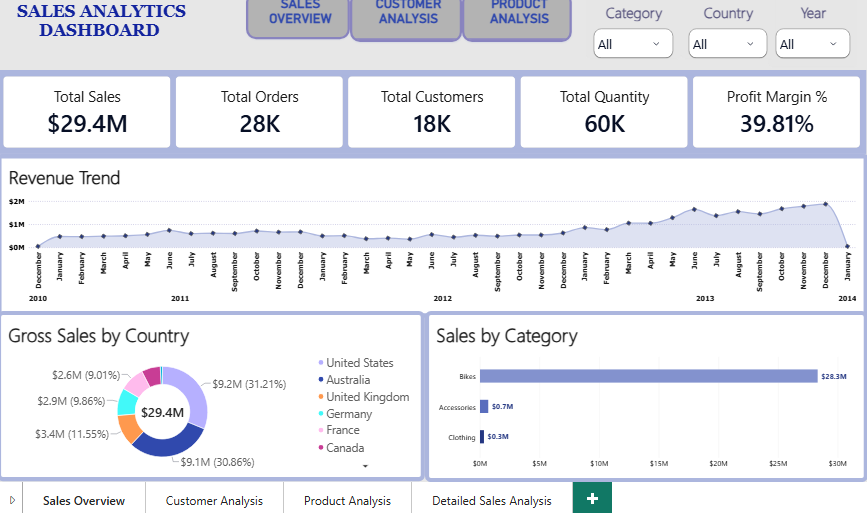

The page's visual inventory and layout, read from the dashboard file:
{"tool":"powerbi","page":{"name":"Sales Overview","canvas":[1920,1080],"ordinal":0},"visuals":[{"type":"cardVisual","fields":{"Data":["MeasuesTable.Total Sales","MeasuesTable.Total Orders","MeasuesTable.Total Customers","MeasuesTable.Total Quantity","MeasuesTable.Profit Margin %"]},"box":[0,171.9,1919.8,185.1],"z":0},{"type":"textbox","box":[0,448,461,317],"z":1000},{"type":"lineChart","title":"Revenue Trend","fields":{"Category":["DimDate.Year","DimDate.Month Name"],"Y":["MeasuesTable.Total Sales"]},"box":[0,357.1,1919.8,361.5],"z":2000},{"type":"donutChart","title":"Gross Sales by Country","fields":{"Category":["DimCustomers.Country"],"Y":["MeasuesTable.Total Sales"]},"box":[0,703.1,943.3,374.7],"z":3000},{"type":"barChart","title":"Sales by Category","fields":{"Category":["DimProducts.Category"],"Y":["MeasuesTable.Total Sales"]},"box":[943.3,703.1,976.4,376.9],"z":4000},{"type":"listSlicer","fields":{"Values":["DimDate.Year"]},"box":[1699.3,6.6,198.4,158.7],"z":5000},{"type":"listSlicer","fields":{"Values":["DimCustomers.Country"]},"box":[1507.6,6.6,207.2,141.1],"z":6000},{"type":"listSlicer","fields":{"Values":["DimProducts.Category"]},"box":[1298.2,6.6,209.4,141.1],"z":7000},{"type":"textbox","box":[0,22,460.7,105.8],"z":8000},{"type":"actionButton","title":"SALES OVERVIEW","box":[548.8,0,229.2,103.6],"z":9000},{"type":"actionButton","title":"CUSTOMER ANALYSIS","box":[778,0,246.9,110.2],"z":10000},{"type":"actionButton","title":"PRODUCT ANALYSIS","box":[1024.9,0,242.4,110.2],"z":11000}]}

Visuals, with their boxes on the page's 1920x1080 design canvas (x1, y1, x2, y2). These are canvas units, not pixel positions in the 867x513 screenshot, which may show the page scaled, cropped or inside an application window:
cardVisual - MeasuesTable.Total Sales x MeasuesTable.Total Orders: crop(0, 172, 1920, 357)
textbox: crop(0, 448, 461, 765)
"Revenue Trend" lineChart: crop(0, 357, 1920, 719)
"Gross Sales by Country" donutChart: crop(0, 703, 943, 1078)
"Sales by Category" barChart: crop(943, 703, 1920, 1080)
listSlicer - DimDate.Year: crop(1699, 7, 1898, 165)
listSlicer - DimCustomers.Country: crop(1508, 7, 1715, 148)
listSlicer - DimProducts.Category: crop(1298, 7, 1508, 148)
textbox: crop(0, 22, 461, 128)
"SALES OVERVIEW" actionButton: crop(549, 0, 778, 104)
"CUSTOMER ANALYSIS" actionButton: crop(778, 0, 1025, 110)
"PRODUCT ANALYSIS" actionButton: crop(1025, 0, 1267, 110)
